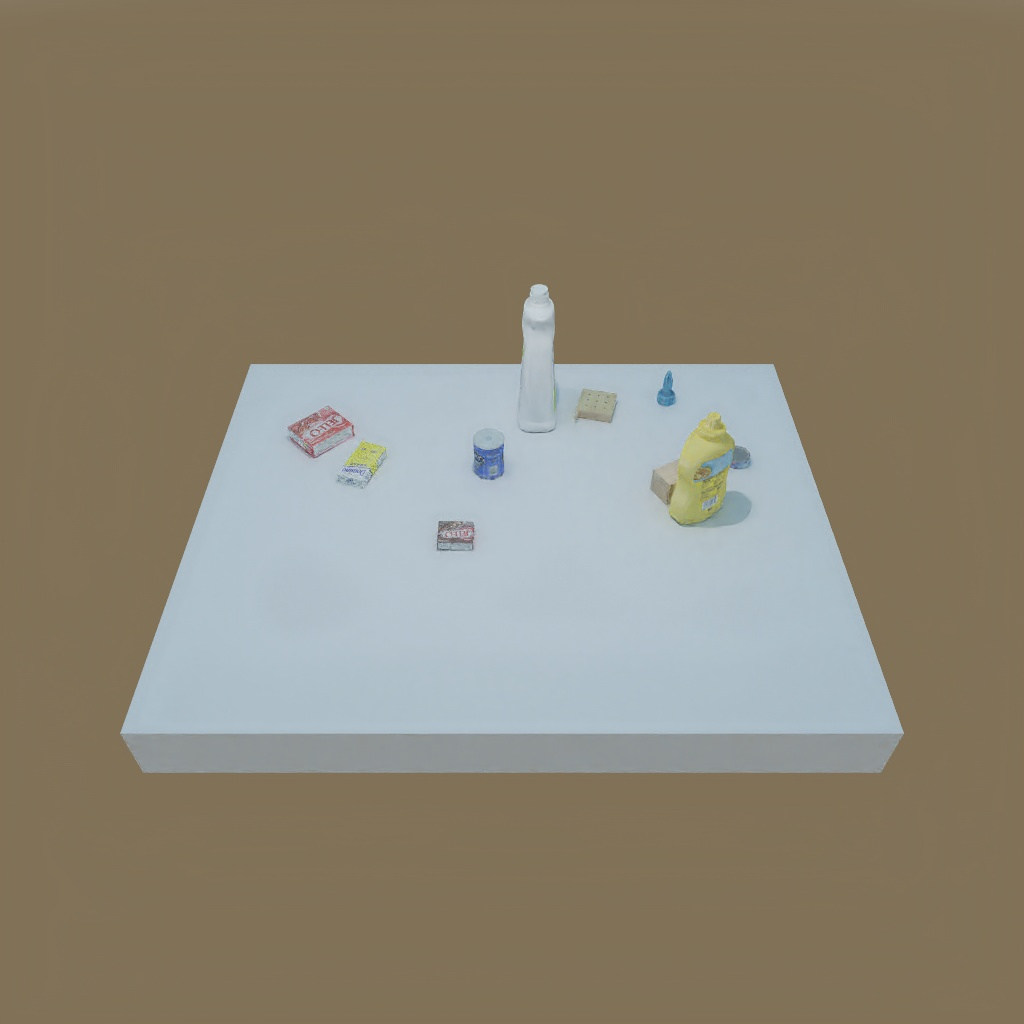gelatin_box: (290, 401, 354, 465)
master_chef_can: (469, 427, 510, 481)
mustard_bottle: (671, 419, 734, 523)
nine_hole_peg_test: (573, 386, 617, 429)
pudding_box: (434, 518, 482, 552)
wood_block: (652, 458, 713, 501)
